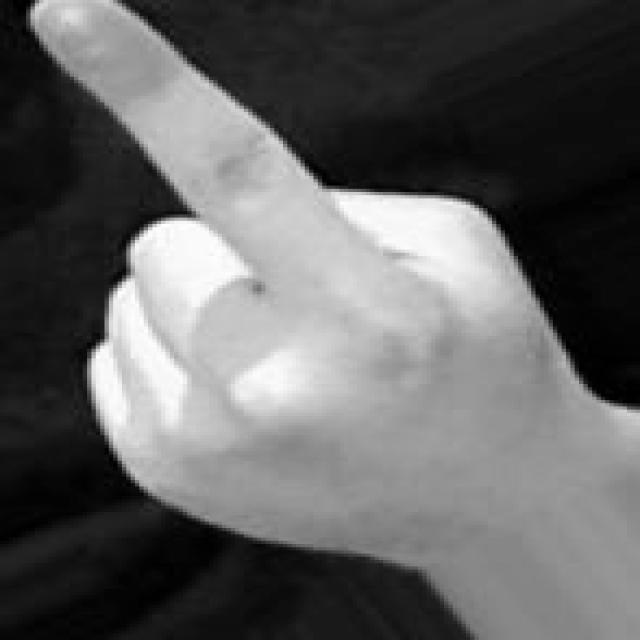I: (23, 0, 638, 569)
